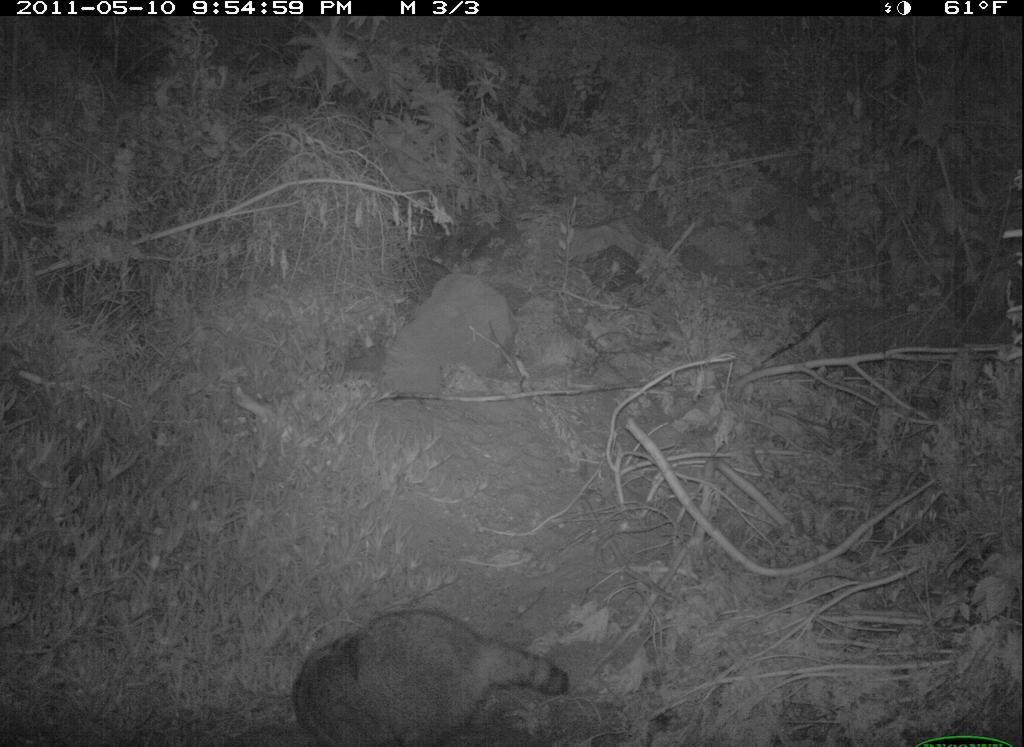raccoon: (285, 605, 571, 747)
